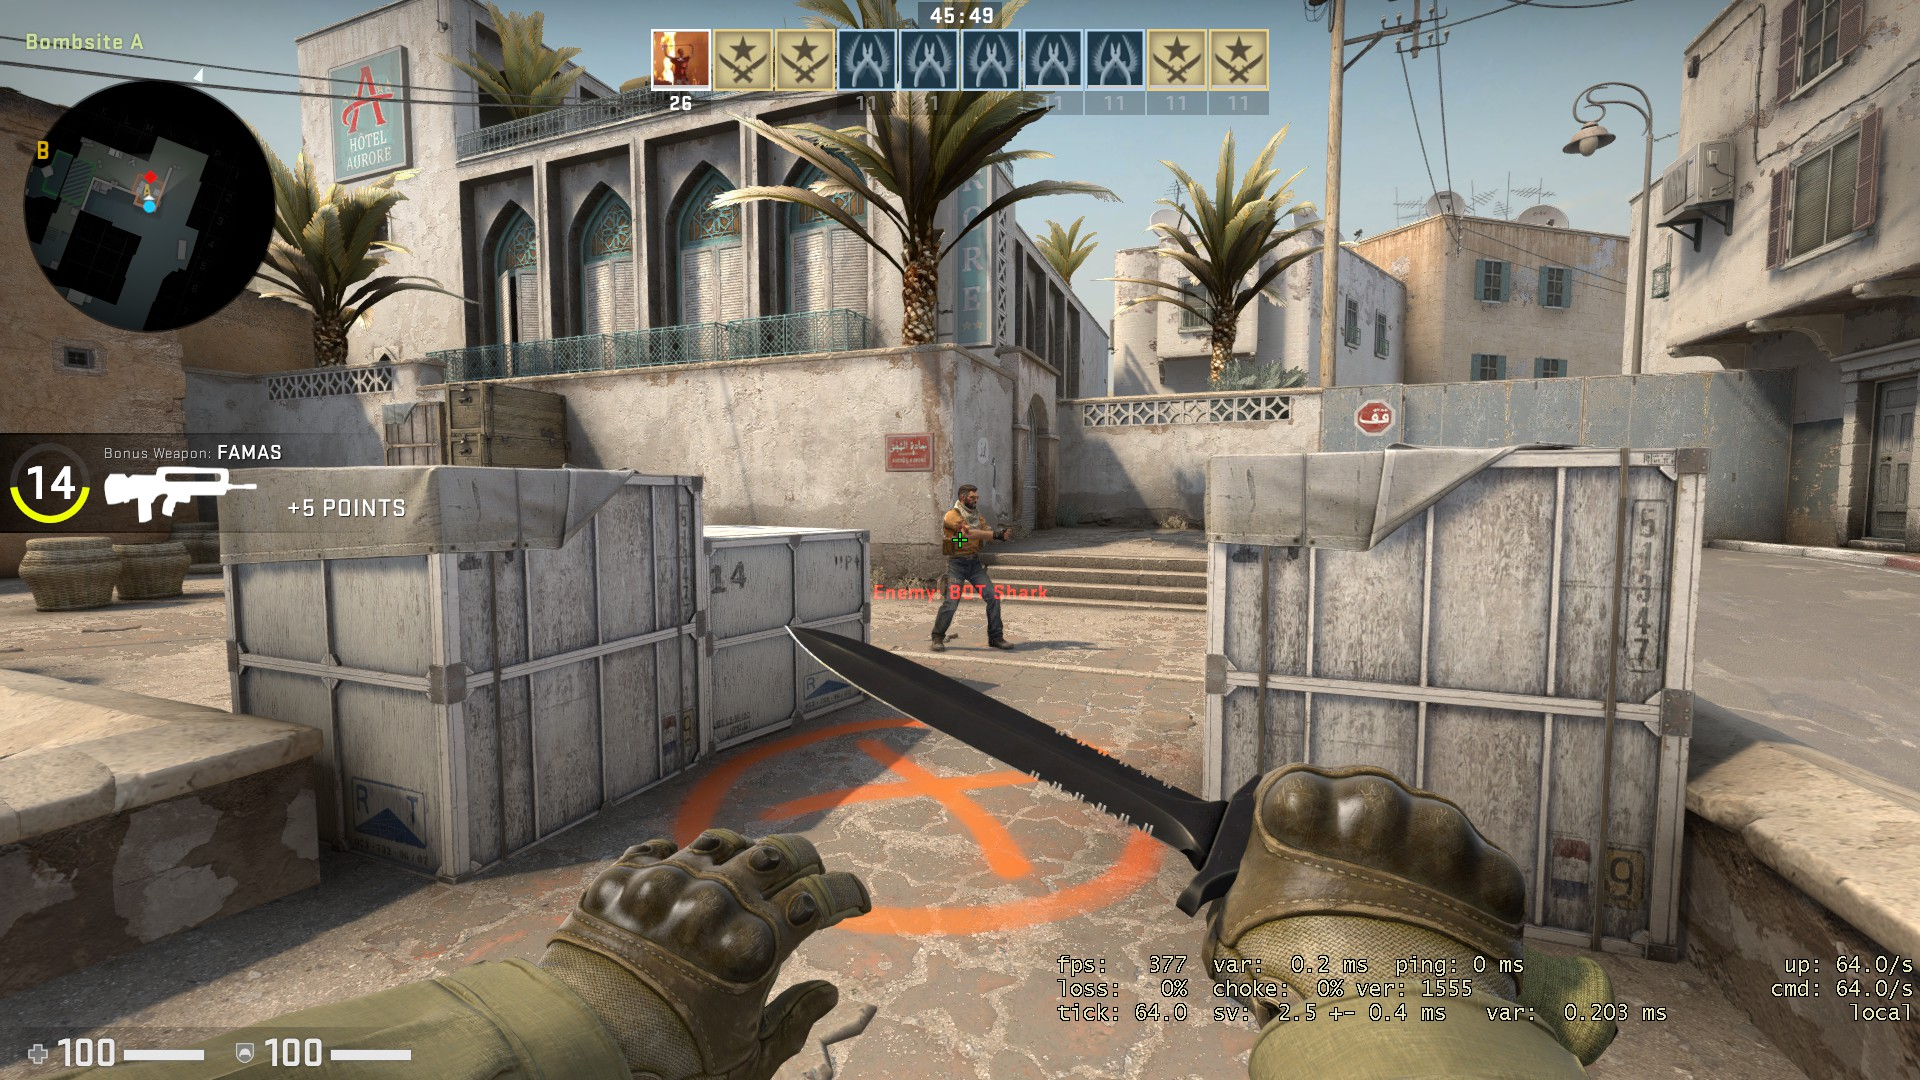player: (930, 478, 1020, 654)
